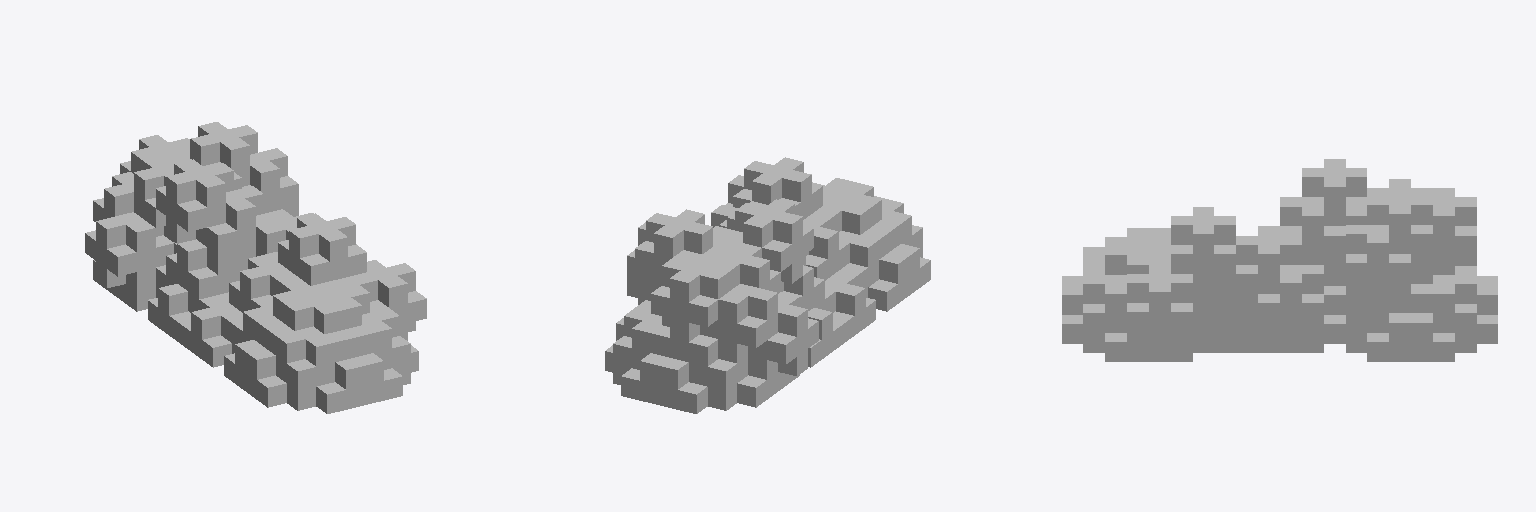
Rendered from Arbusto_02.obj.
The picture shows the model from 3 angles: view 1: azimuth 30°, elevation 25°; view 2: azimuth 150°, elevation 25°; view 3: azimuth 270°, elevation 25°; orthographic projection.
Parts seen in each view (by area): view 1: Content; view 2: Content; view 3: Content.
Boxes of the visible parts, x1=… form: Content: x1=85, y1=122, x2=426, y2=413; Content: x1=605, y1=157, x2=930, y2=413; Content: x1=1062, y1=159, x2=1497, y2=361.
Bounding box in the file's own units: 0.8 × 0.56 × 1.6.